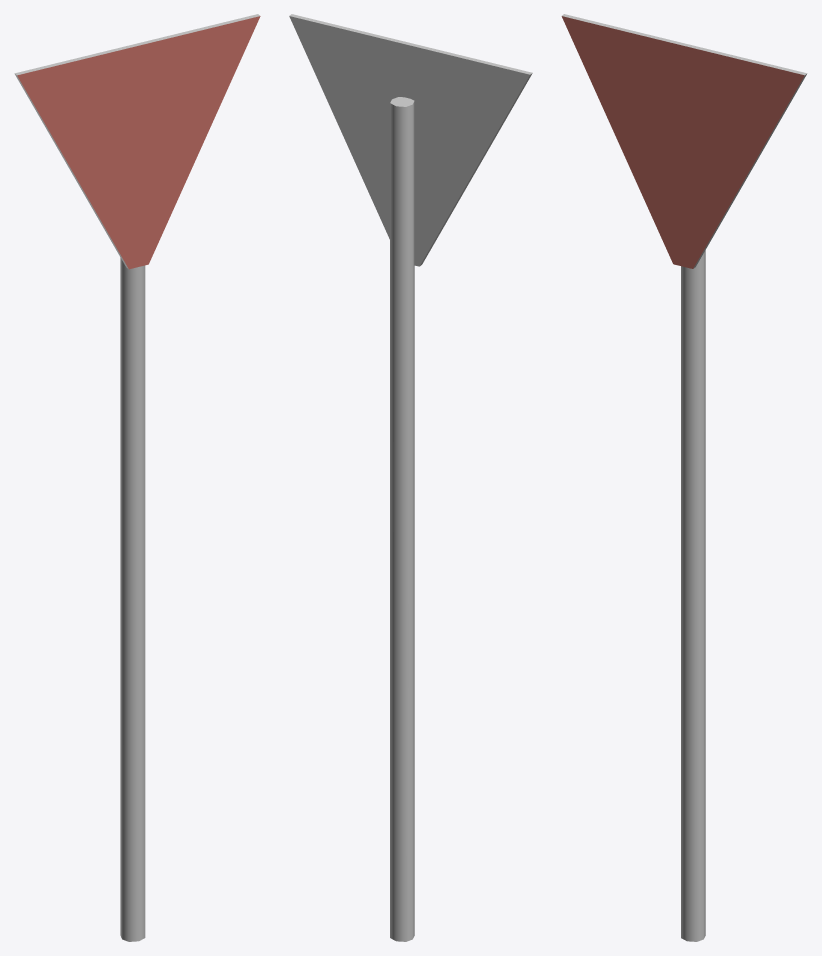
Rendered from SignTriangle.fbx.
The picture shows the model from 3 angles, left to right: view 1: azimuth 30°, elevation 25°; view 2: azimuth 150°, elevation 25°; view 3: azimuth 330°, elevation 25°; orthographic projection.
Visible parts, largest first — view 1: Plane.026; view 2: Plane.026; view 3: Plane.026.
Part boxes in pixels (x1=…): Plane.026: x1=14, y1=14, x2=260, y2=941; Plane.026: x1=289, y1=14, x2=532, y2=941; Plane.026: x1=561, y1=14, x2=807, y2=941.
Size of the model in its own units: 43.96 by 155 by 4.42.
